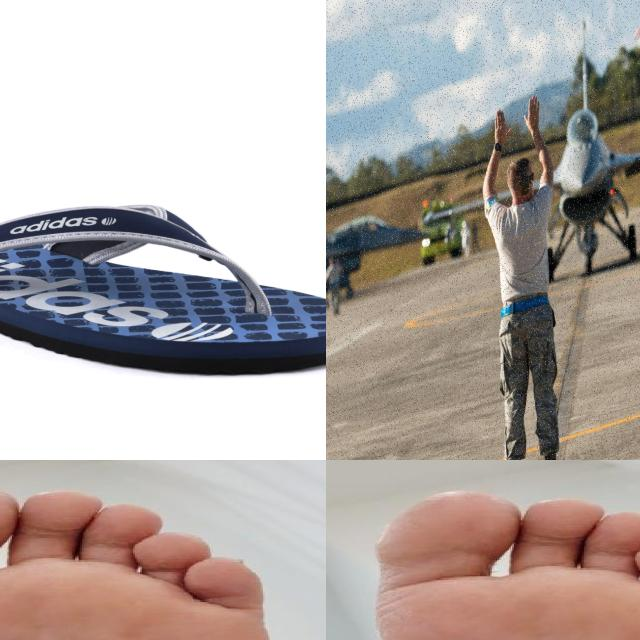Barefoots: (0, 475, 279, 640), (366, 483, 640, 640)
Ear-protection: (505, 162, 538, 225)
Sandals: (0, 202, 326, 378)
head_nohelmet: (506, 154, 534, 192)
person: (469, 90, 576, 460)
